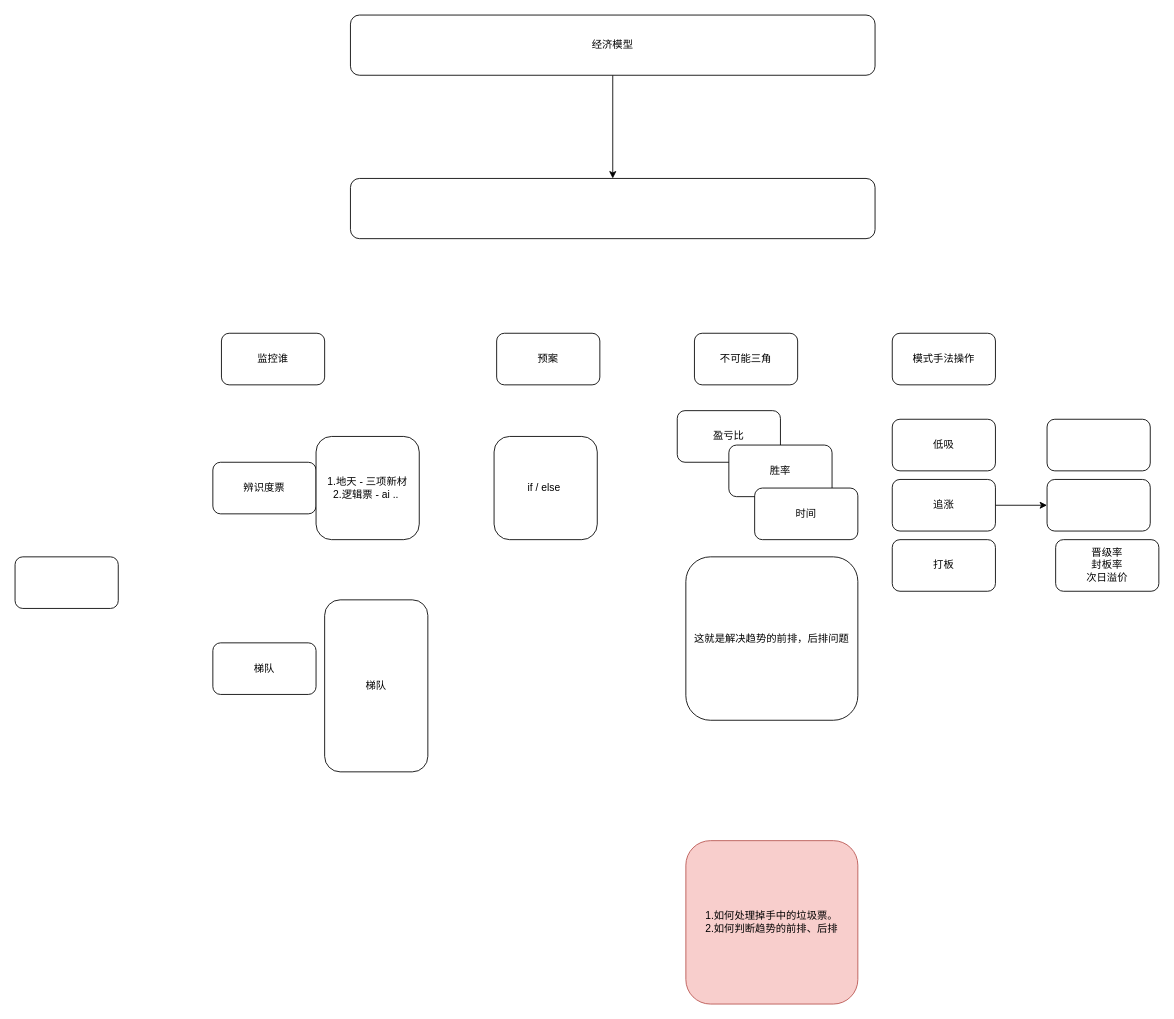
Some shapes in this 1174 by 1019 pixel diagram are drawn without their labels. The box of each missing label's shape, as (x1, y1, x2, y2) in pixels:
两个买点: (1046, 479, 1150, 531)
周期、级别 - 1.市场需要-年底，华为 2.遵循演化 动态不看空不看多: (350, 178, 875, 239)
